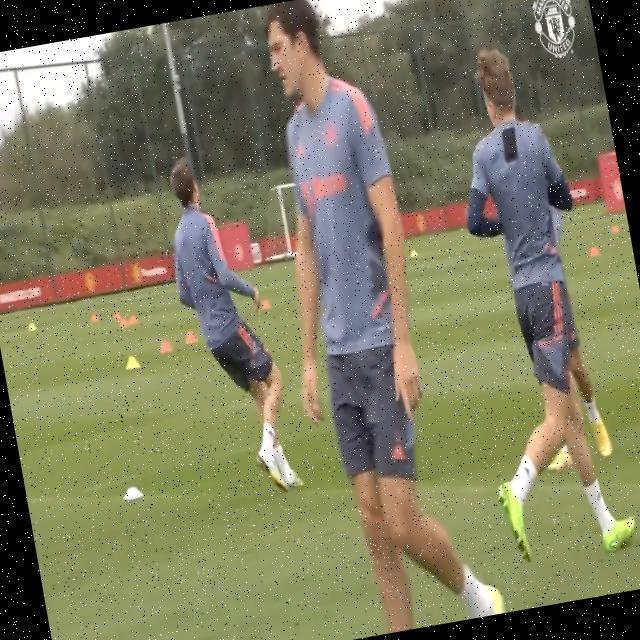Adidas: (390, 441, 408, 465)
